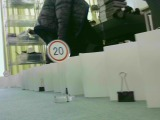speed_20: (45, 38, 71, 64)
